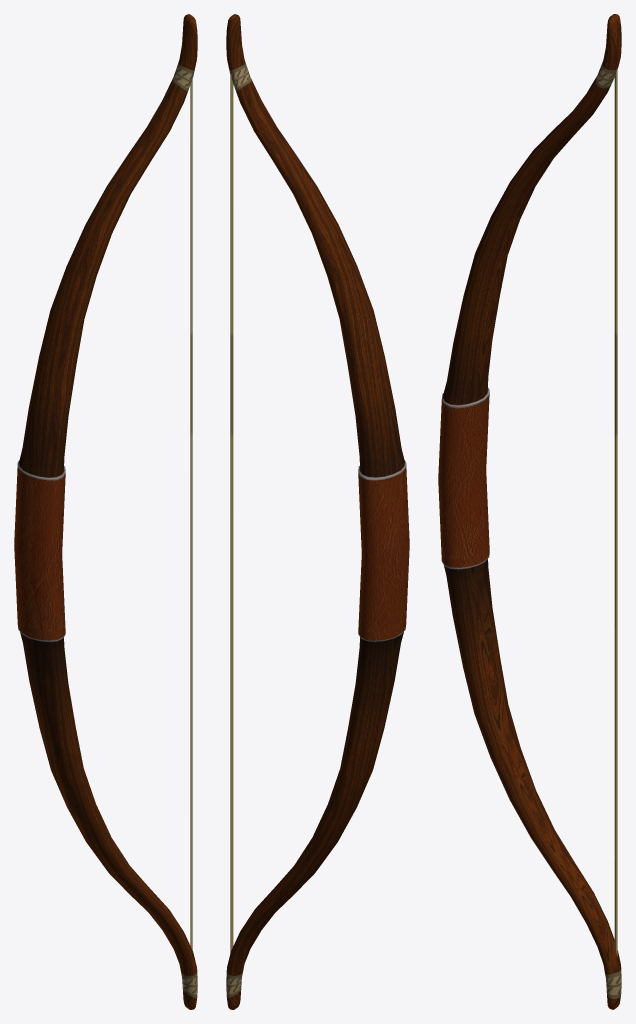
The model's file is enemybow.obj.
3 views of the same model, side by side, from view 1: azimuth 30°, elevation 25°; view 2: azimuth 150°, elevation 25°; view 3: azimuth 330°, elevation 25° (orthographic).
Visible parts, largest first — view 1: Bow:Mesh; view 2: Bow:Mesh; view 3: Bow:Mesh.
Part boxes in pixels (box(x1,y1,x2,y2)): Bow:Mesh: box(14, 14, 197, 1009); Bow:Mesh: box(226, 14, 409, 1009); Bow:Mesh: box(438, 14, 621, 1009).
Bounding box in the file's own units: 0.4385 × 2.34 × 0.1353.
Materials: 1 (1 with a texture image).
